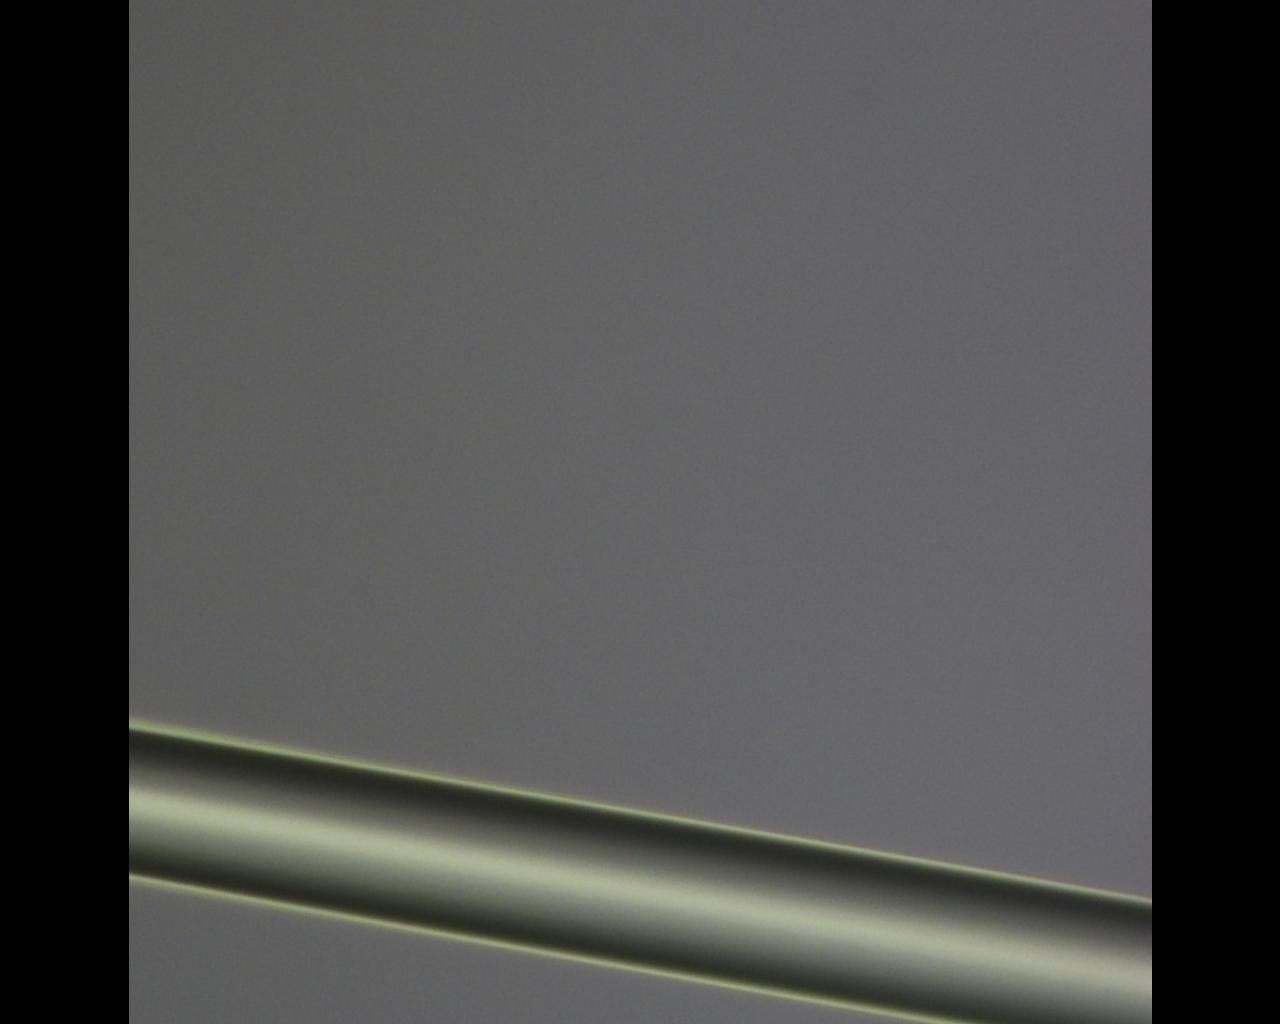fiber: (600, 0, 740, 1024)
